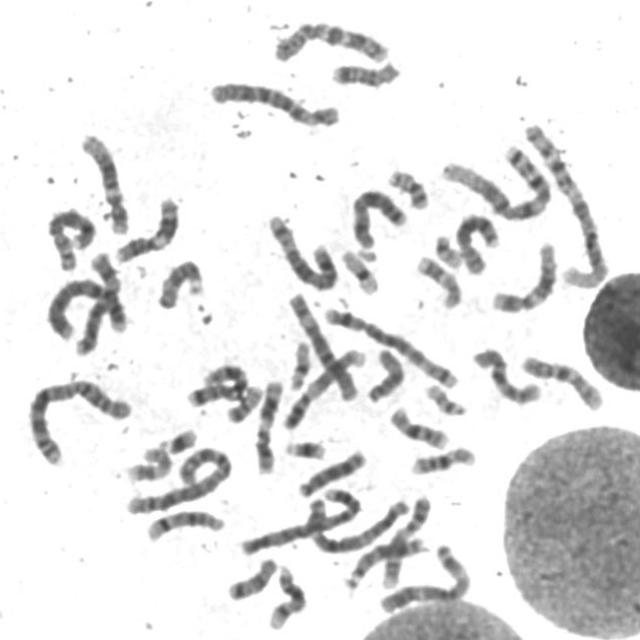A1: (519, 115, 614, 289), (438, 138, 558, 224)
A2: (22, 370, 137, 467), (120, 440, 236, 516)
A3: (374, 536, 476, 614), (302, 488, 412, 554)
B4: (236, 480, 366, 558), (42, 270, 132, 342)
B5: (320, 299, 462, 391), (262, 207, 342, 292)
C10: (517, 348, 609, 412), (468, 339, 546, 406)
C11: (110, 189, 184, 264), (250, 373, 288, 475)
C12: (76, 125, 134, 236), (488, 234, 562, 315)
C6: (284, 284, 362, 402), (204, 73, 344, 129)
C7: (268, 14, 394, 64), (182, 356, 252, 410)
C8: (43, 201, 100, 273), (452, 206, 504, 276)
C9: (278, 341, 369, 431), (376, 488, 436, 590)
D13: (341, 530, 432, 592), (294, 443, 371, 499)
D14: (142, 503, 228, 543), (264, 558, 310, 631)
D15: (152, 252, 208, 311), (362, 342, 410, 404)
E16: (386, 399, 454, 451), (406, 439, 481, 476)
E17: (412, 248, 468, 310), (122, 440, 177, 483)
E18: (223, 550, 280, 602), (328, 53, 406, 89)
F19: (336, 242, 384, 296), (284, 333, 316, 392)
F20: (384, 162, 434, 212), (222, 378, 266, 425)
G21: (154, 421, 202, 455), (280, 433, 330, 461)
G22: (422, 376, 471, 417), (429, 228, 466, 270)
X: (70, 244, 127, 358), (346, 182, 412, 253)
